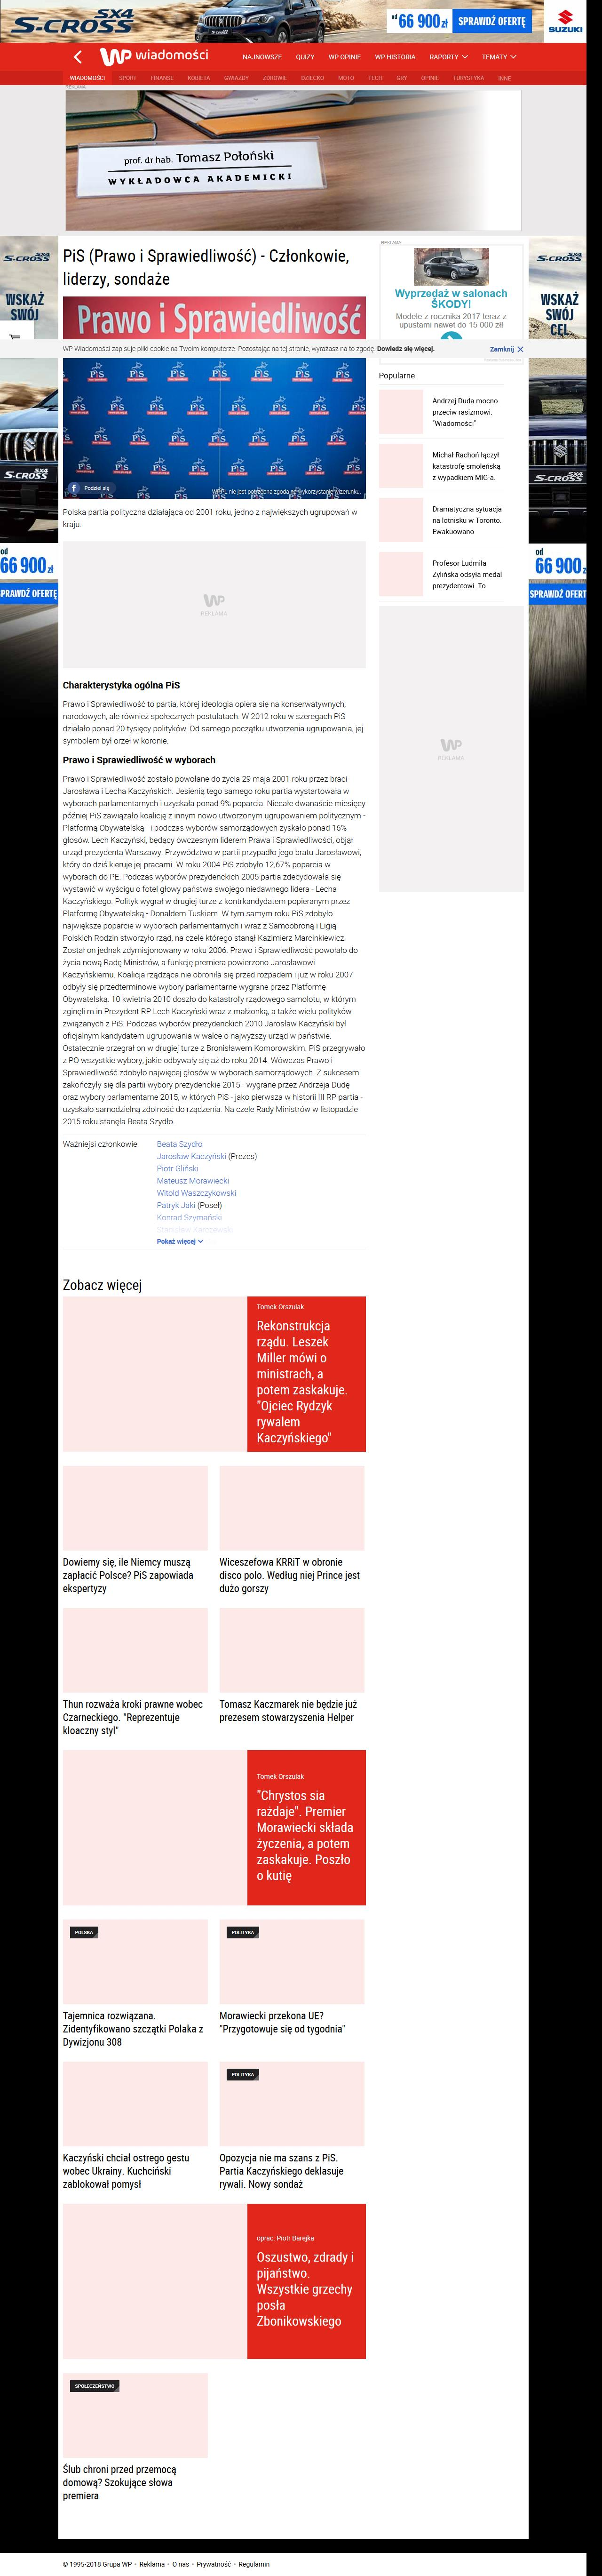title: (62, 246, 349, 287)
